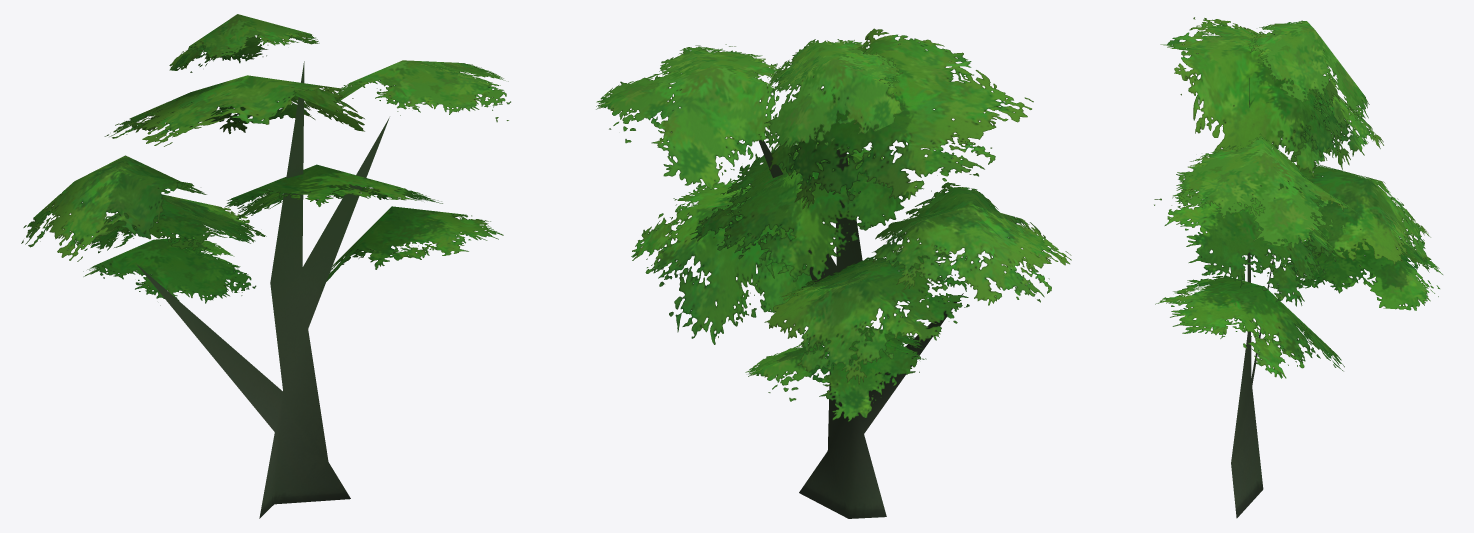
File: Sce_tree_02.fbx
3 renders of one model, left to right at view 1: azimuth 30°, elevation 25°; view 2: azimuth 150°, elevation 25°; view 3: azimuth 270°, elevation 25°, orthographic. The views are drawn at different scales.
Visible parts, largest first — view 1: polySurface510; view 2: polySurface510; view 3: polySurface510.
Boxes of the visible parts, x1,y1,x2,y2 form: polySurface510: (21, 14, 510, 518); polySurface510: (596, 28, 1071, 518); polySurface510: (1154, 17, 1442, 518).
Bounding box in the file's own units: 33.14 × 31.71 × 21.65.
